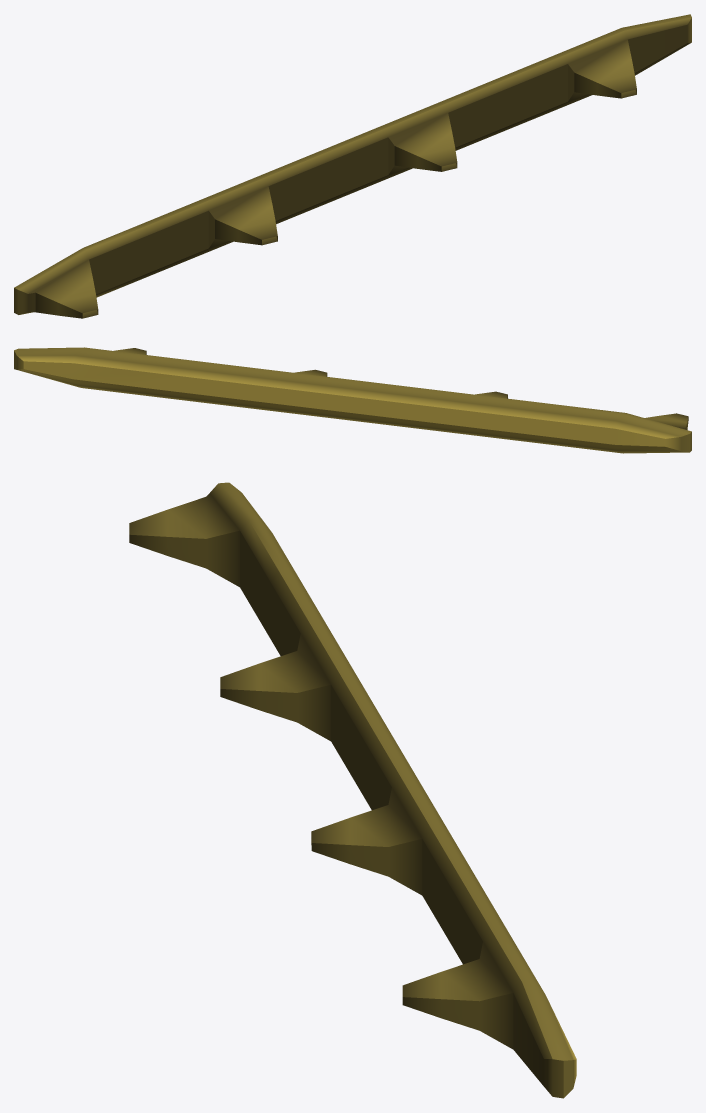
File: Stairs1.fbx
3 renders of one model, top to bottom at view 1: azimuth 30°, elevation 25°; view 2: azimuth 150°, elevation 25°; view 3: azimuth 270°, elevation 25°, orthographic. The views are drawn at different scales.
Parts seen in each view (by area): view 1: Stairs1; view 2: Stairs1; view 3: Stairs1.
Boxes of the visible parts, x1,y1,x2,y2 form: Stairs1: [14, 14, 691, 318]; Stairs1: [14, 347, 691, 453]; Stairs1: [129, 482, 576, 1098].
Size of the model in its own units: 394 by 24.59 by 129.
